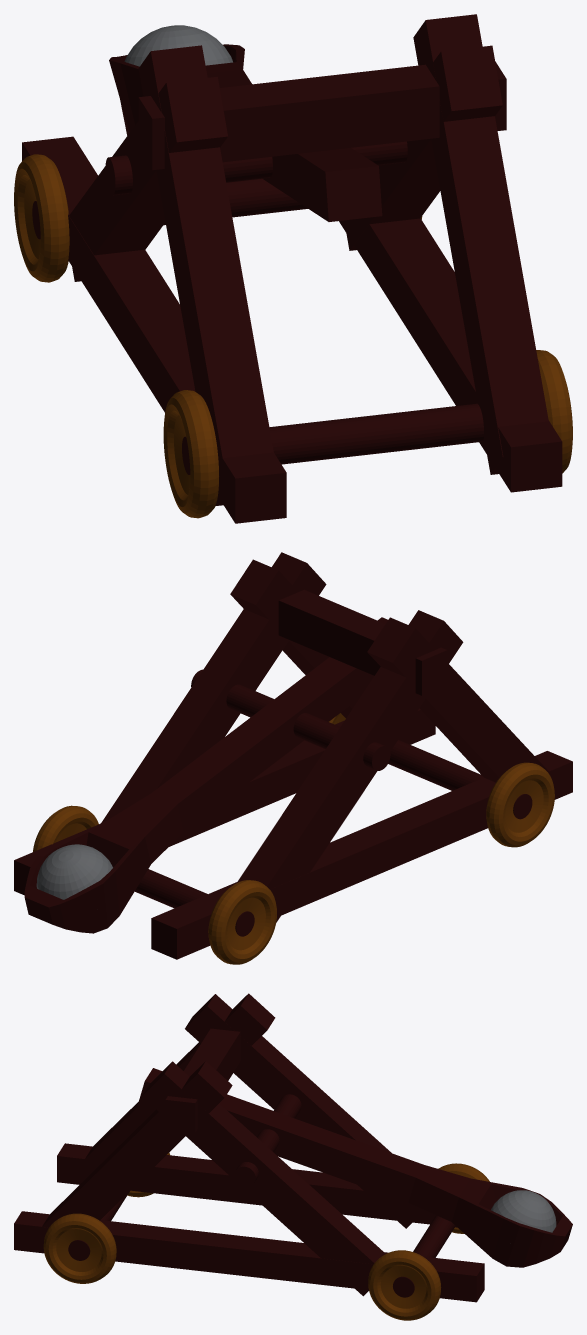
Rendered from ОркКатапульта0.fbx.
3 views of the same model, one above another, from view 1: azimuth 30°, elevation 25°; view 2: azimuth 150°, elevation 25°; view 3: azimuth 270°, elevation 25° (orthographic). The views are drawn at different scales.
Parts seen in each view (by area): view 1: Куб.090, Куб.086, Куб.088, Куб.093, Куб.092, Куб.089, Куб.087, Куб.091, Цилиндр.270, Тор.023, Тор.016, Цилиндр.268 (+3 smaller); view 2: Куб.087, Куб.093, Куб.089, Куб.091, Куб.086, Куб.088, Куб.092, Тор.016, Тор.023, Куб.090, Сфера.001, Цилиндр.268 (+3 smaller); view 3: Куб.087, Куб.092, Куб.091, Куб.089, Куб.093, Куб.090, Тор.017, Тор.018, Куб.086, Куб.088, Сфера.001, Цилиндр.269 (+3 smaller).
Part boxes in pixels (box(x1,y1,x2,y2)): Куб.090: box(413, 14, 548, 474); Куб.086: box(138, 45, 273, 505); Куб.088: box(138, 61, 506, 170); Куб.093: box(22, 136, 286, 523); Куб.092: box(339, 218, 562, 492); Куб.089: box(69, 76, 227, 281); Куб.087: box(109, 44, 382, 221); Куб.091: box(344, 45, 502, 250); Цилиндр.270: box(182, 403, 483, 474); Тор.023: box(14, 154, 69, 282); Тор.016: box(163, 390, 218, 518); Цилиндр.268: box(105, 141, 407, 195); Куб.087: box(24, 617, 387, 933); Куб.093: box(151, 751, 572, 959); Куб.089: box(238, 610, 463, 922); Куб.091: box(101, 552, 326, 822); Куб.086: box(367, 617, 548, 782); Куб.088: box(278, 589, 447, 695); Куб.092: box(14, 708, 435, 895); Тор.016: box(486, 762, 554, 847); Тор.023: box(208, 880, 276, 964); Куб.090: box(230, 559, 421, 743); Сфера.001: box(36, 844, 112, 899); Цилиндр.268: box(191, 669, 390, 770); Куб.087: box(137, 1068, 572, 1267); Куб.092: box(14, 1211, 484, 1302); Куб.091: box(142, 1061, 383, 1296); Куб.089: box(185, 994, 424, 1228); Куб.093: box(57, 1143, 457, 1227); Куб.090: box(42, 1061, 232, 1227); Тор.017: box(43, 1213, 116, 1283); Тор.018: box(368, 1250, 441, 1320); Куб.086: box(73, 993, 275, 1180); Куб.088: box(165, 1028, 240, 1132); Сфера.001: box(491, 1190, 556, 1243); Цилиндр.269: box(393, 1215, 455, 1297).
Size of the model in its own units: 106 by 78.91 by 183.
